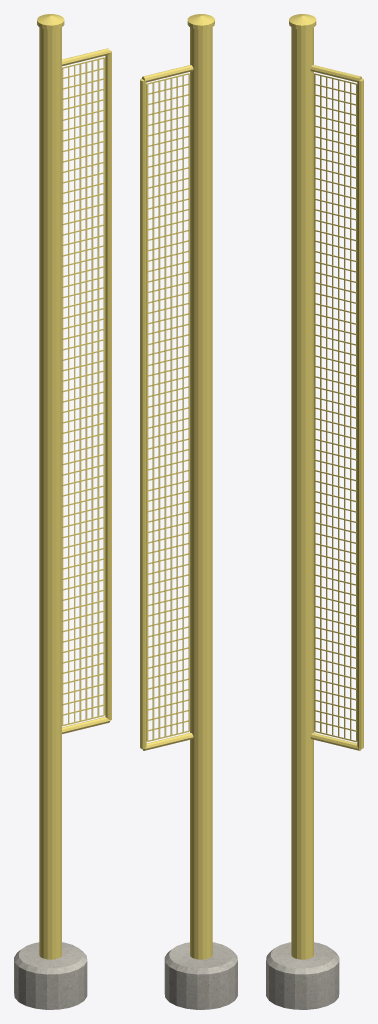
Rendered from foul_pole.glb.
3 views of the same model, side by side, from view 1: azimuth 30°, elevation 25°; view 2: azimuth 210°, elevation 25°; view 3: azimuth 330°, elevation 25° (orthographic).
Parts seen in each view (by area): view 1: foul_pole_paint_y, foul_pole_concrete; view 2: foul_pole_paint_y, foul_pole_concrete; view 3: foul_pole_paint_y, foul_pole_concrete.
Part boxes in pixels (bbox=[...]): foul_pole_paint_y: bbox=[37, 14, 111, 959]; foul_pole_concrete: bbox=[14, 942, 87, 1009]; foul_pole_paint_y: bbox=[140, 14, 214, 959]; foul_pole_concrete: bbox=[164, 942, 237, 1009]; foul_pole_paint_y: bbox=[289, 14, 363, 959]; foul_pole_concrete: bbox=[266, 942, 339, 1009].
Size of the model in its own units: 0.93 by 9.38 by 0.64.
Materials: 2 (1 with a texture image).
